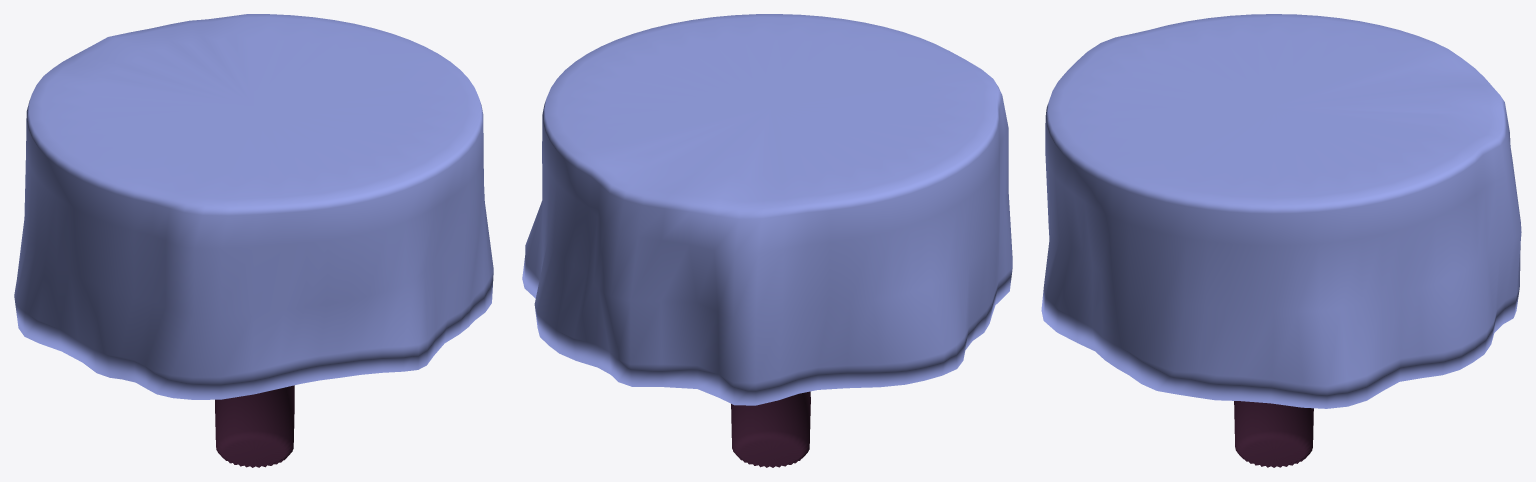
Rendered from Mesa.fbx.
The picture shows the model from 3 angles, left to right: view 1: azimuth 30°, elevation 25°; view 2: azimuth 150°, elevation 25°; view 3: azimuth 270°, elevation 25°; orthographic projection.
Parts seen in each view (by area): view 1: Cylinder.004; view 2: Cylinder.004; view 3: Cylinder.004.
Part boxes in pixels (left/top/right/bottom): Cylinder.004: left=14, top=14, right=493, bottom=467; Cylinder.004: left=522, top=14, right=1012, bottom=467; Cylinder.004: left=1041, top=14, right=1521, bottom=467.
Bounding box in the file's own units: 1274 × 988 × 1240.
